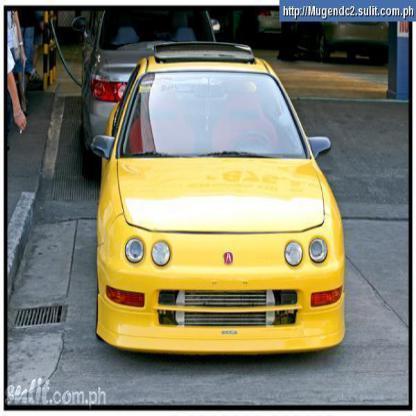Vehicle: (90, 43, 346, 358)
